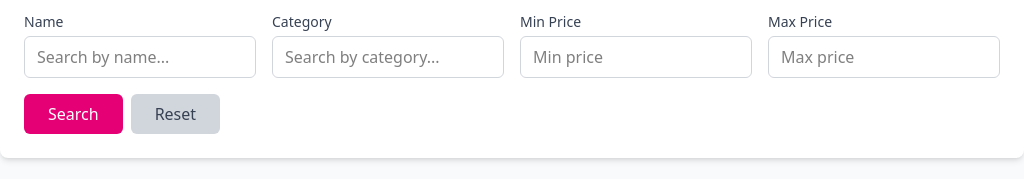
Test: SearchBar Component › should clear all fields when reset is clicked
This screenshot has width=1024, height=179.
Type "Chocolate" into the field with placeholder "Search by name..." at (140, 57), box [24,36,256,78]
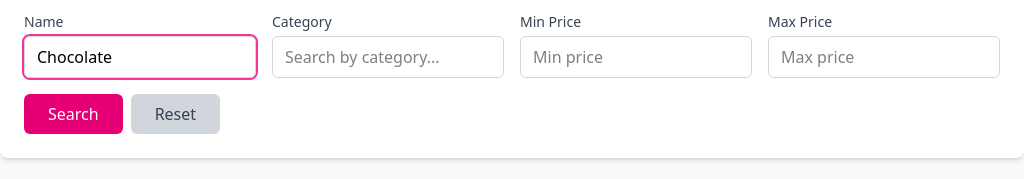
Type "Candy" into the field with placeholder "Search by category..." at (388, 57), box [272,36,504,78]
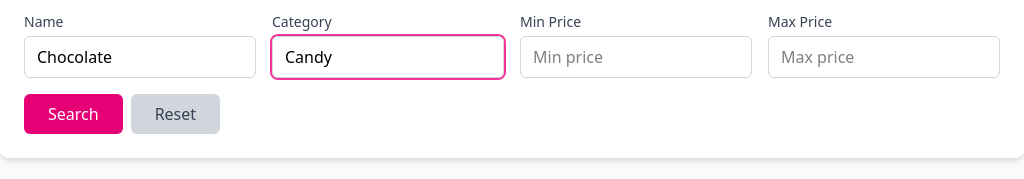
Type "10" into the number field with placeholder "Min price" at (636, 57), box [520,36,752,78]
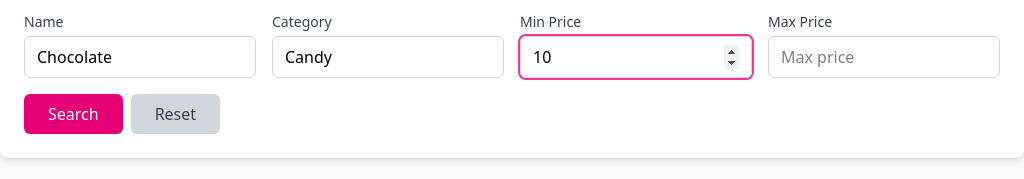
Type "50" into the number field with placeholder "Max price" at (884, 57), box [768,36,1000,78]
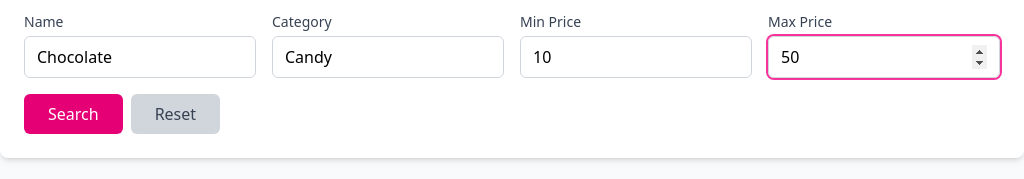
Click the button "Reset" at (175, 114), box [131,94,220,134]
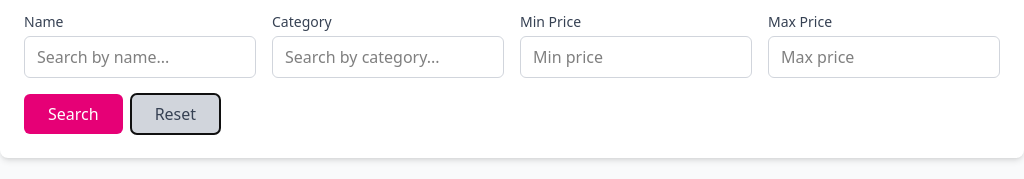
Check: the field with placeholder "Search by name..." is empty, box [24,36,256,78]
Check: the field with placeholder "Search by category..." is empty, box [272,36,504,78]
Check: the number field with placeholder "Min price" is not empty, box [520,36,752,78]
